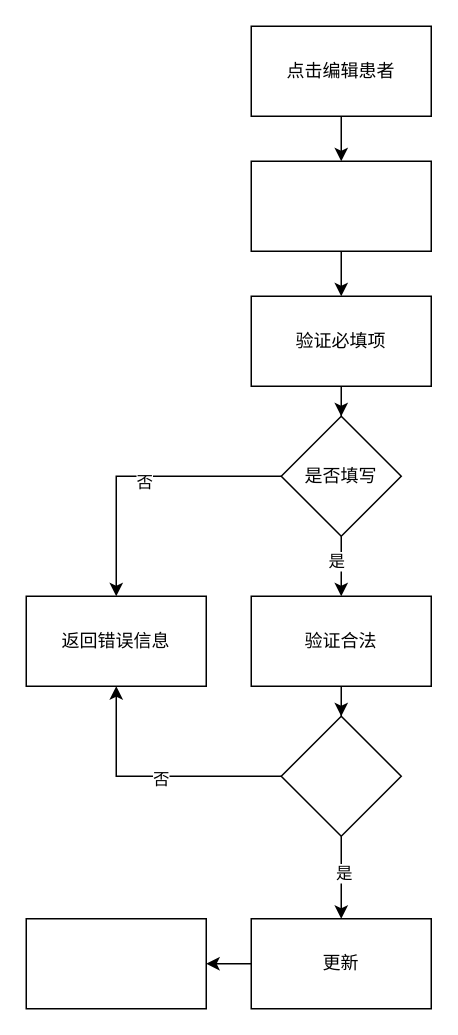
The diagram is 458 pixels wide and 1035 high, and some of its shapes have lost their labels. The shapes that lost their labels are listed below. From the top down, each one's centre as x and y in pixels, then its label:
pixel 340 205: 编辑模式
pixel 340 775: 是否合法
pixel 115 963: 成功
